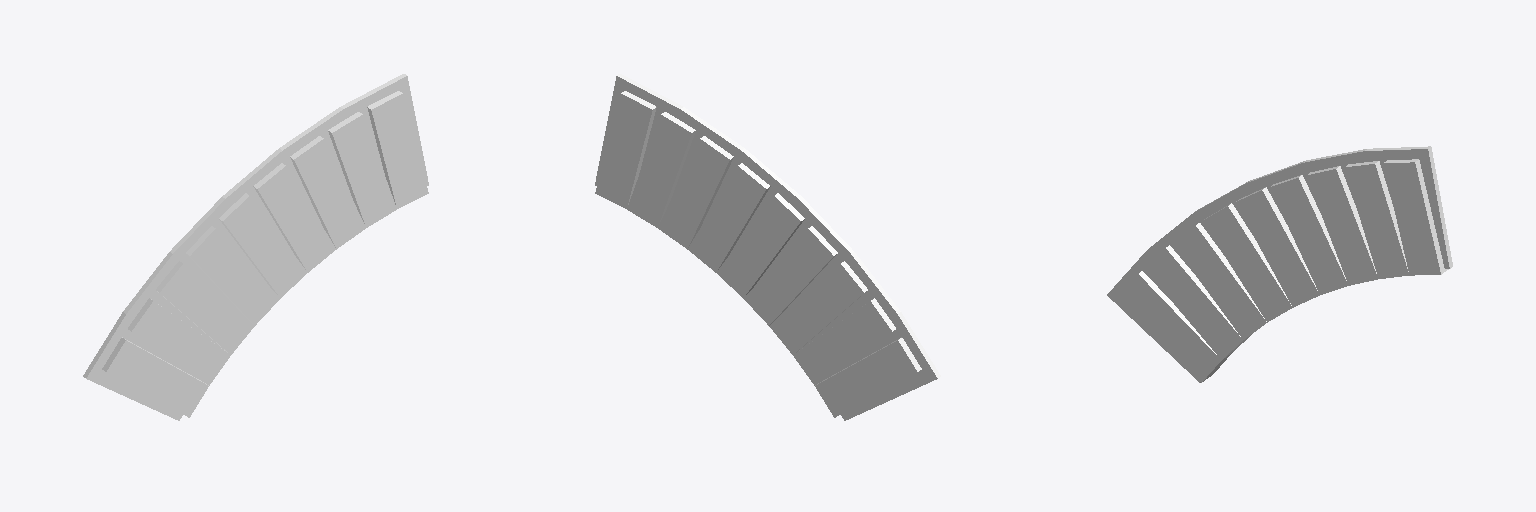
The model's file is lime_mortar_orange_clay_brick_facade_segmental_arch_3_left_bottom.obj.
The picture shows the model from 3 angles: view 1: azimuth 30°, elevation 25°; view 2: azimuth 150°, elevation 25°; view 3: azimuth 330°, elevation 25°; orthographic projection.
Parts seen in each view (by area): view 1: arch_3_left, arch_3_left_inner; view 2: arch_3_left, arch_3_left_inner; view 3: arch_3_left, arch_3_left_inner.
Boxes of the visible parts, <box> form: arch_3_left: <box>102,91,428,417</box>; arch_3_left_inner: <box>83,74,428,420</box>; arch_3_left: <box>595,91,921,417</box>; arch_3_left_inner: <box>595,74,940,420</box>; arch_3_left: <box>1119,159,1448,382</box>; arch_3_left_inner: <box>1107,146,1452,382</box>.
Bounding box in the file's own units: 1.64 × 1.32 × 0.0972.